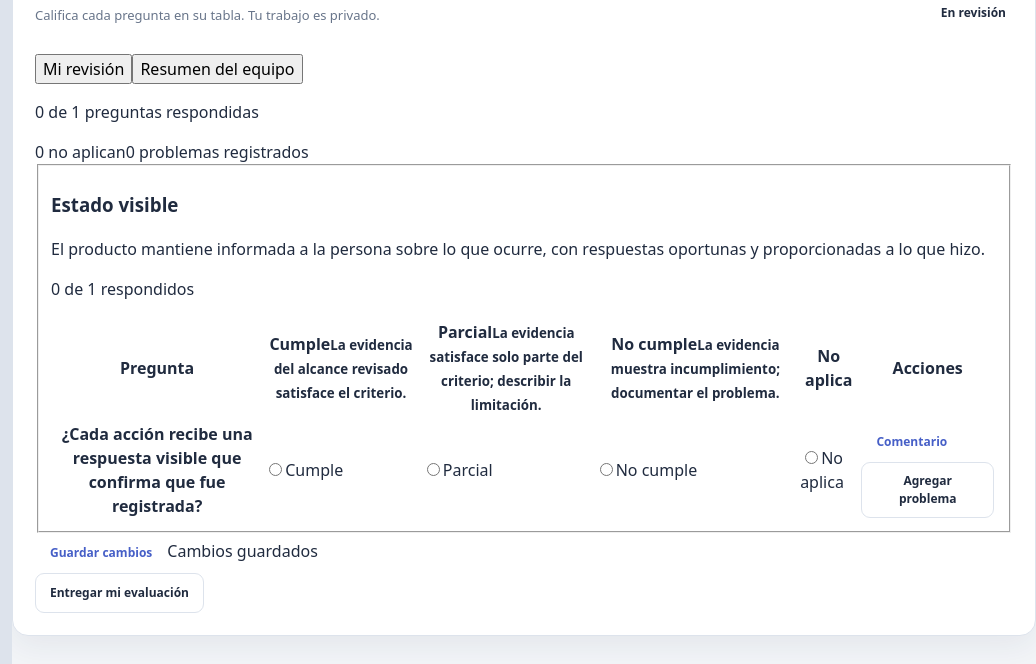
Test: flujo individual › el aviso de listo y el botón Entregar principal aparecen solo sin pendientes
This screenshot has width=1036, height=664.
Expected: the text "Estás listo para entregar" is not shown
What coordinates should you click on to do the following:
click the radio button labelled "Cumple"
I would click on:
 (276, 470)
Its box is [269,464,282,476].
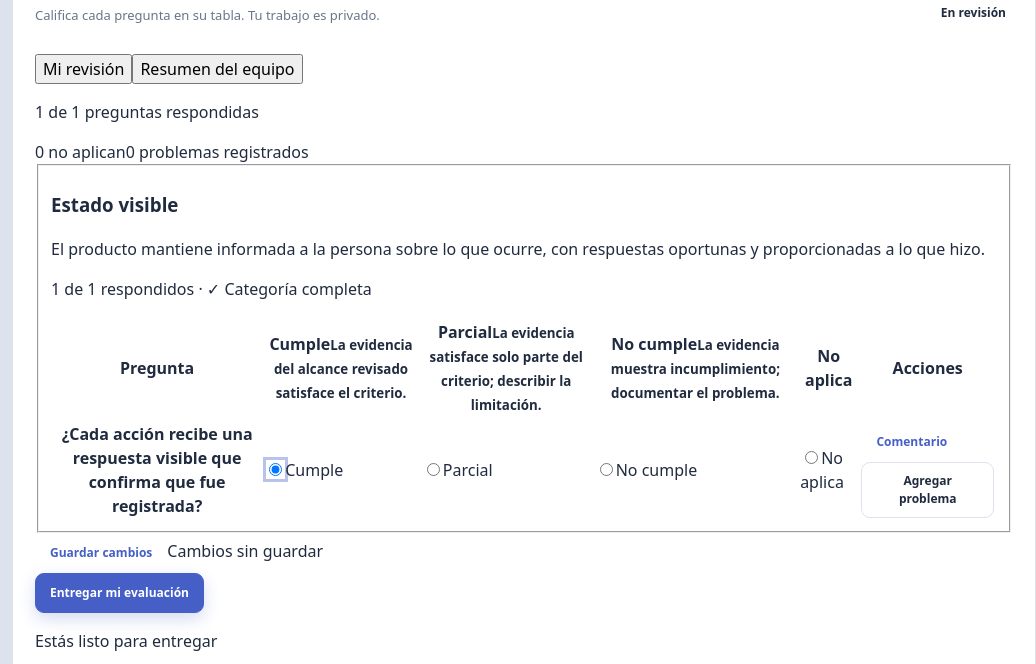
Expected: the text "Estás listo para entregar" is shown, [35,630,217,652]
What coordinates should you click on to do the following:
click the button "Agregar problema"
I would click on:
 (928, 490)
Its box is [861,462,994,518].
(page scrolled)
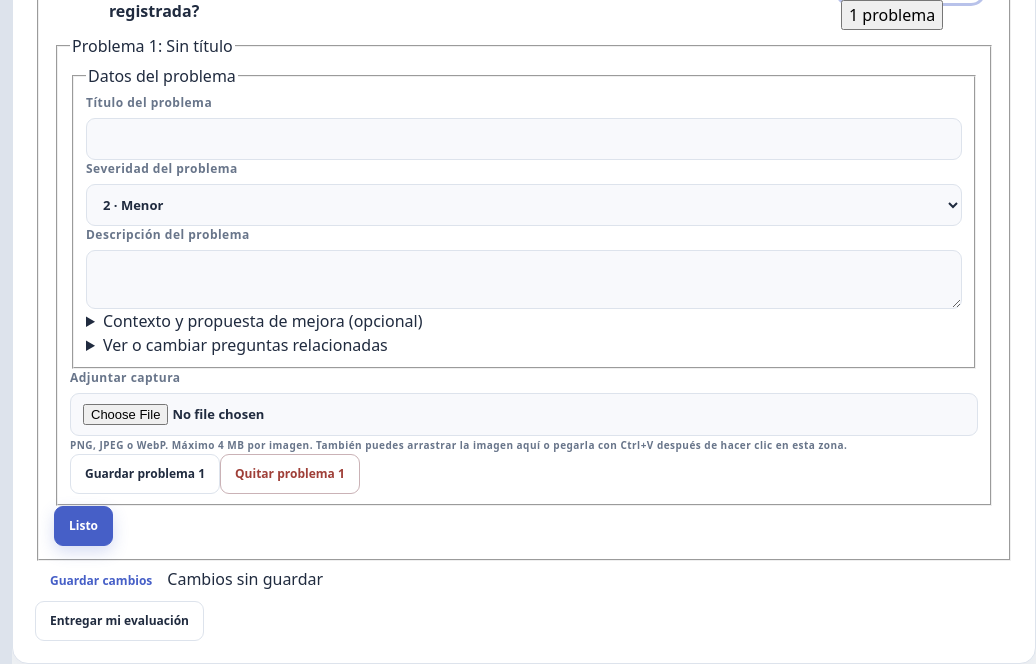
Expected: the text "Estás listo para entregar" is gone
